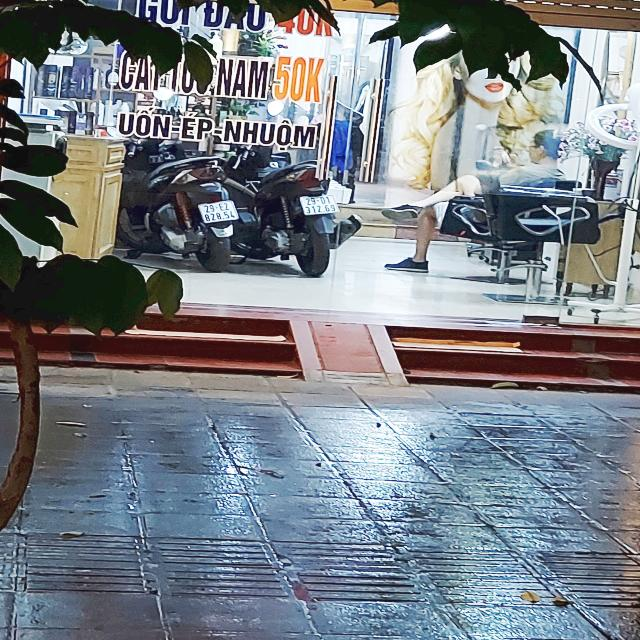license_plate: (197, 200, 241, 225), (299, 195, 342, 217)
